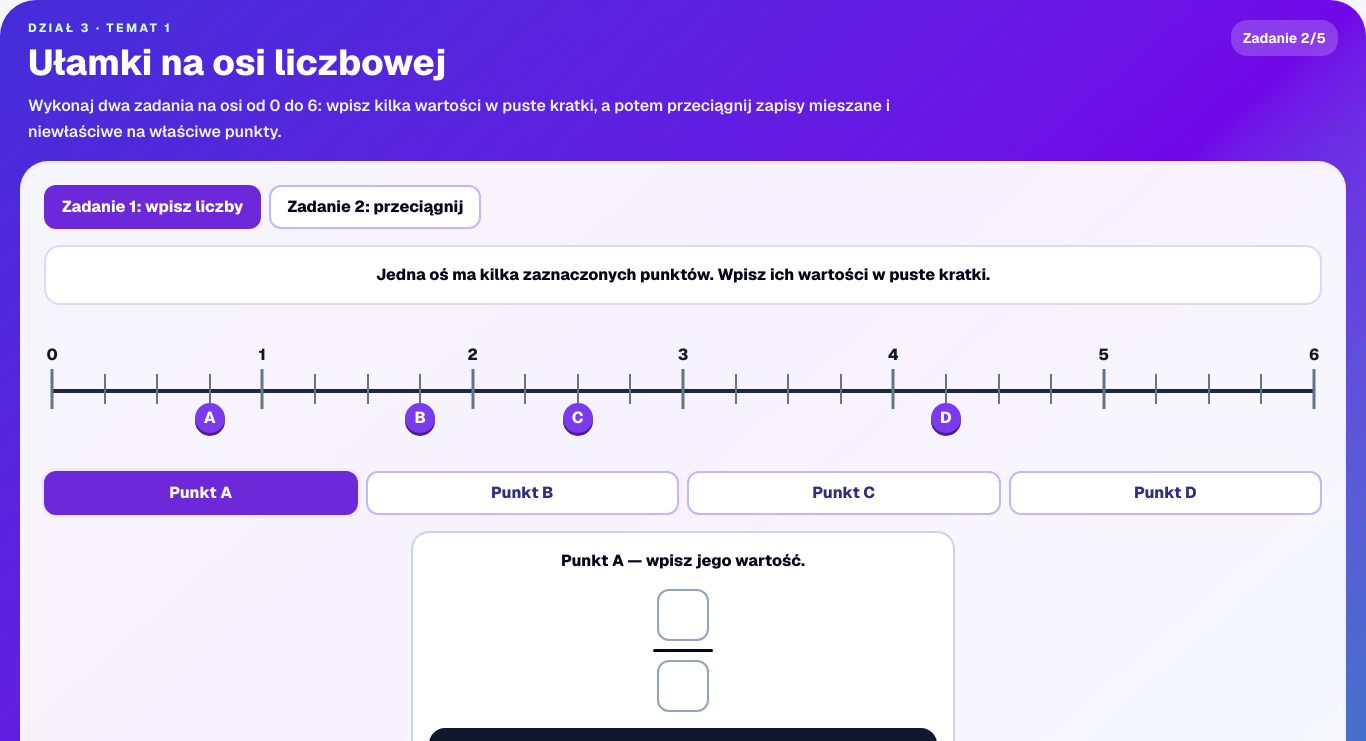
it: FractionTopicIntroModel — tematy 1 i 2 działu 3 › prowadzi dwa zadania z wieloma wartościami na osi od 0 do 6
The image size is (1366, 741).
Check: the heading "Ułamki na osi liczbowej" is shown, box left=28, top=39, right=446, bottom=86
Check: the element showing "0 1 2 3 4 5 6 A B C D" is shown, box left=41, top=369, right=1325, bottom=433
Click the tab "Punkt C" at (844, 493), box left=687, top=471, right=1000, bottom=515
(page scrolled)
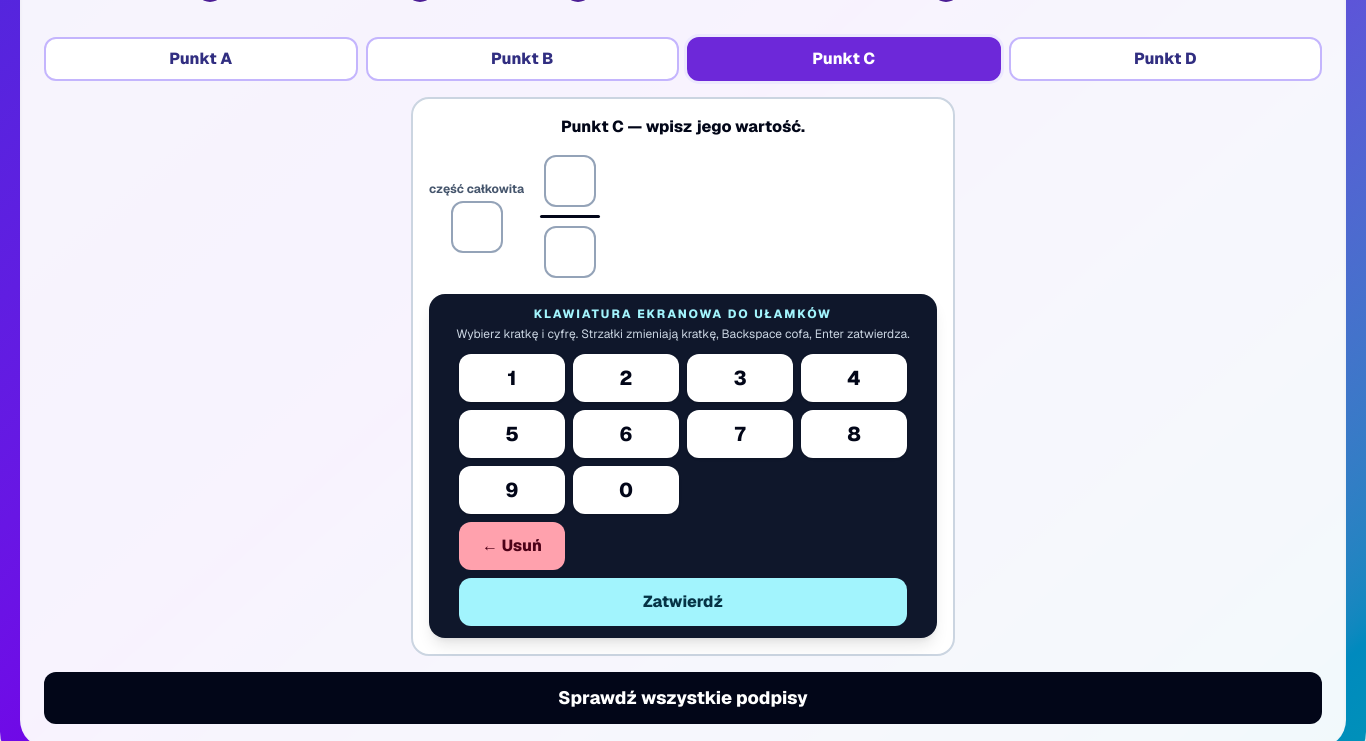
Check: the field named "część całkowita, cyfra 1 z 1" is shown, box left=451, top=200, right=503, bottom=252
Click the button "Sprawdź wszystkie podpisy" at (683, 698), box left=44, top=672, right=1322, bottom=724
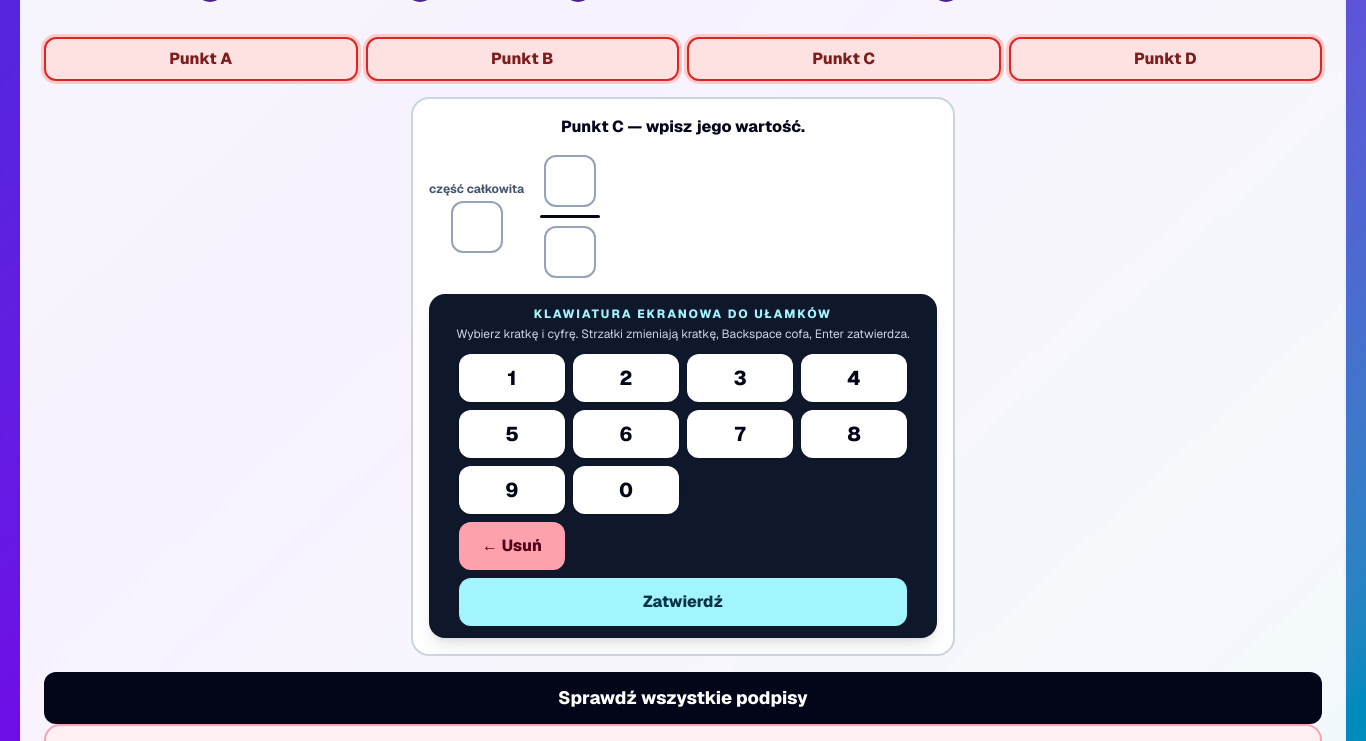
Click the tab "Punkt A" at (201, 59), box left=44, top=37, right=358, bottom=81
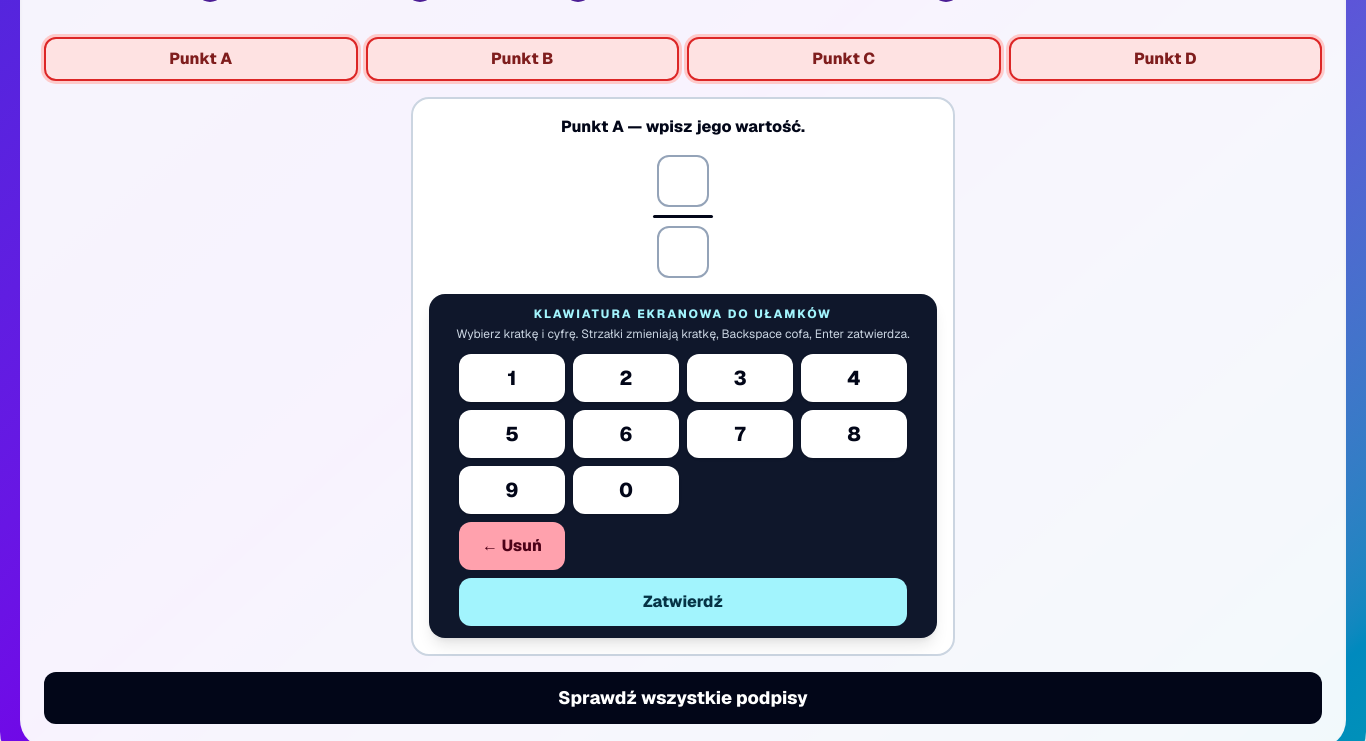
Type "3" into the field named "licznik, cyfra 1 z 1" at (683, 181), box left=657, top=155, right=709, bottom=207
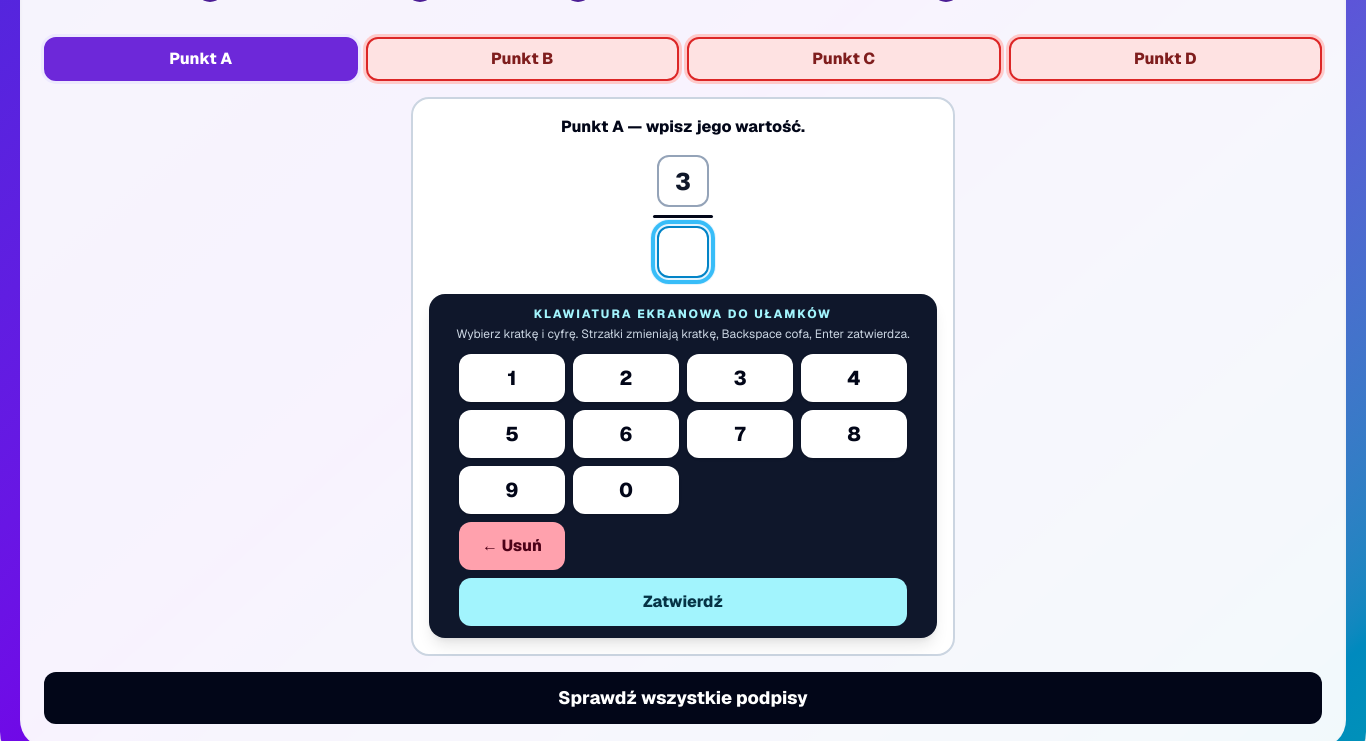
Type "4" into the field named "mianownik, cyfra 1 z 1" at (683, 252), box left=657, top=226, right=709, bottom=278
Click the button "Zatwierdź" at (683, 602), box left=459, top=578, right=907, bottom=626
(page scrolled)
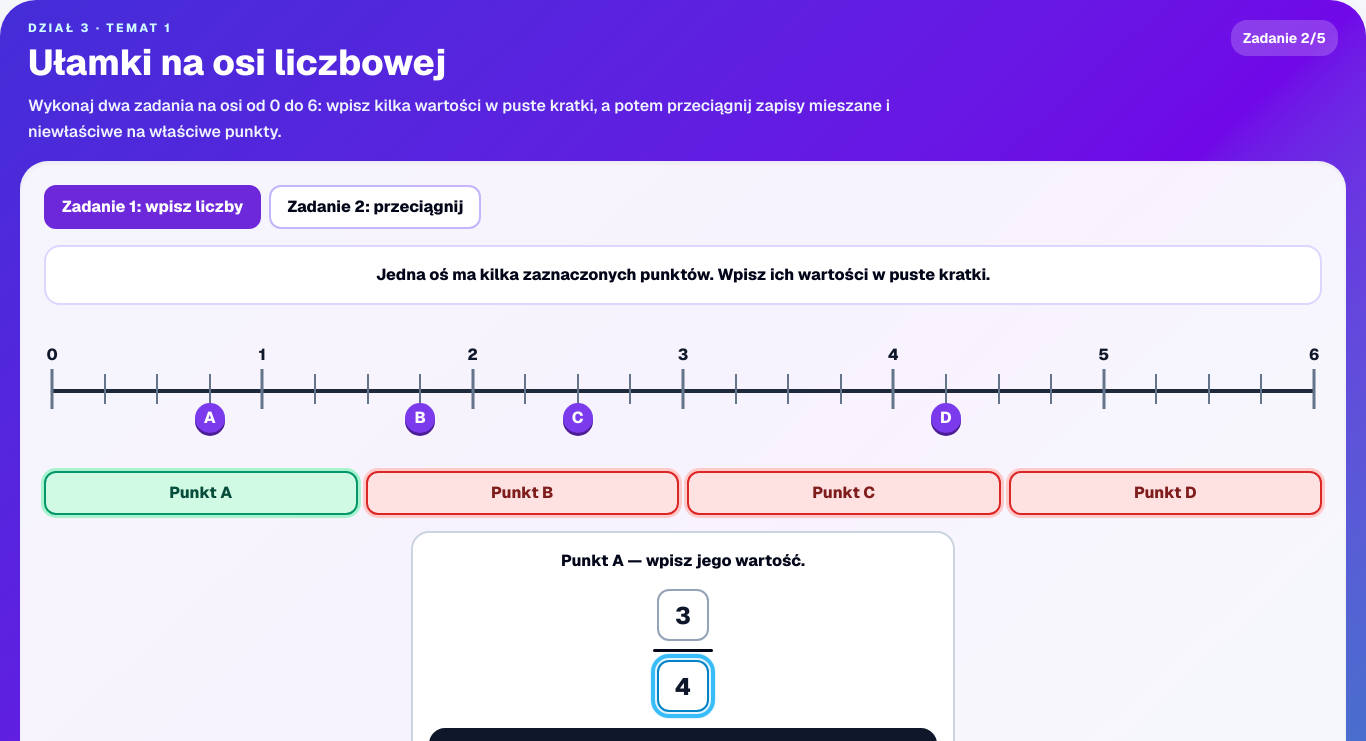
Check: the tab "Punkt A" has attribute data-axis-write-status="correct", box left=44, top=471, right=358, bottom=515
Click the button "Zadanie 2: przeciągnij" at (375, 207), box left=269, top=185, right=481, bottom=229
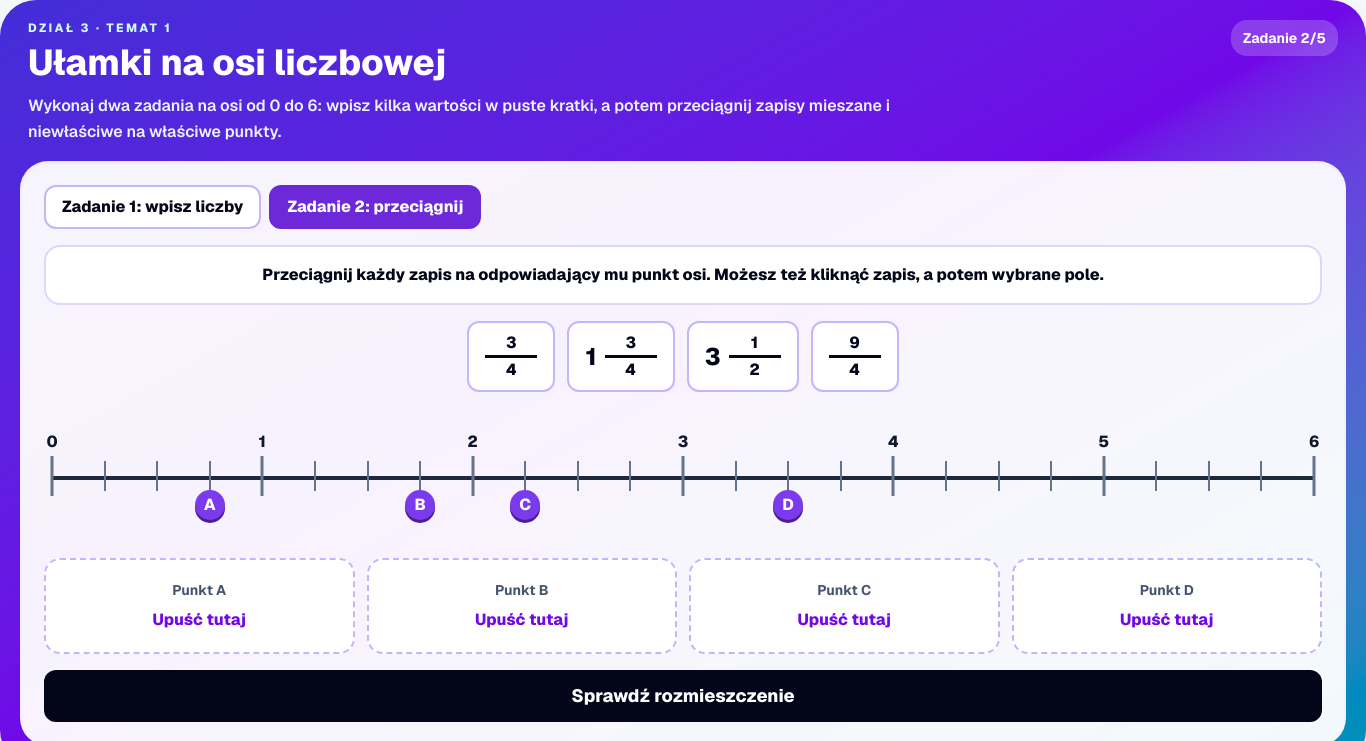
Check: the text "Upuść tutaj" is shown 4 times, box left=152, top=609, right=246, bottom=630; left=475, top=609, right=568, bottom=630; left=797, top=609, right=891, bottom=630; left=1120, top=609, right=1214, bottom=630
Check: the button "Sprawdź rozmieszczenie" is shown, box left=44, top=670, right=1322, bottom=722
